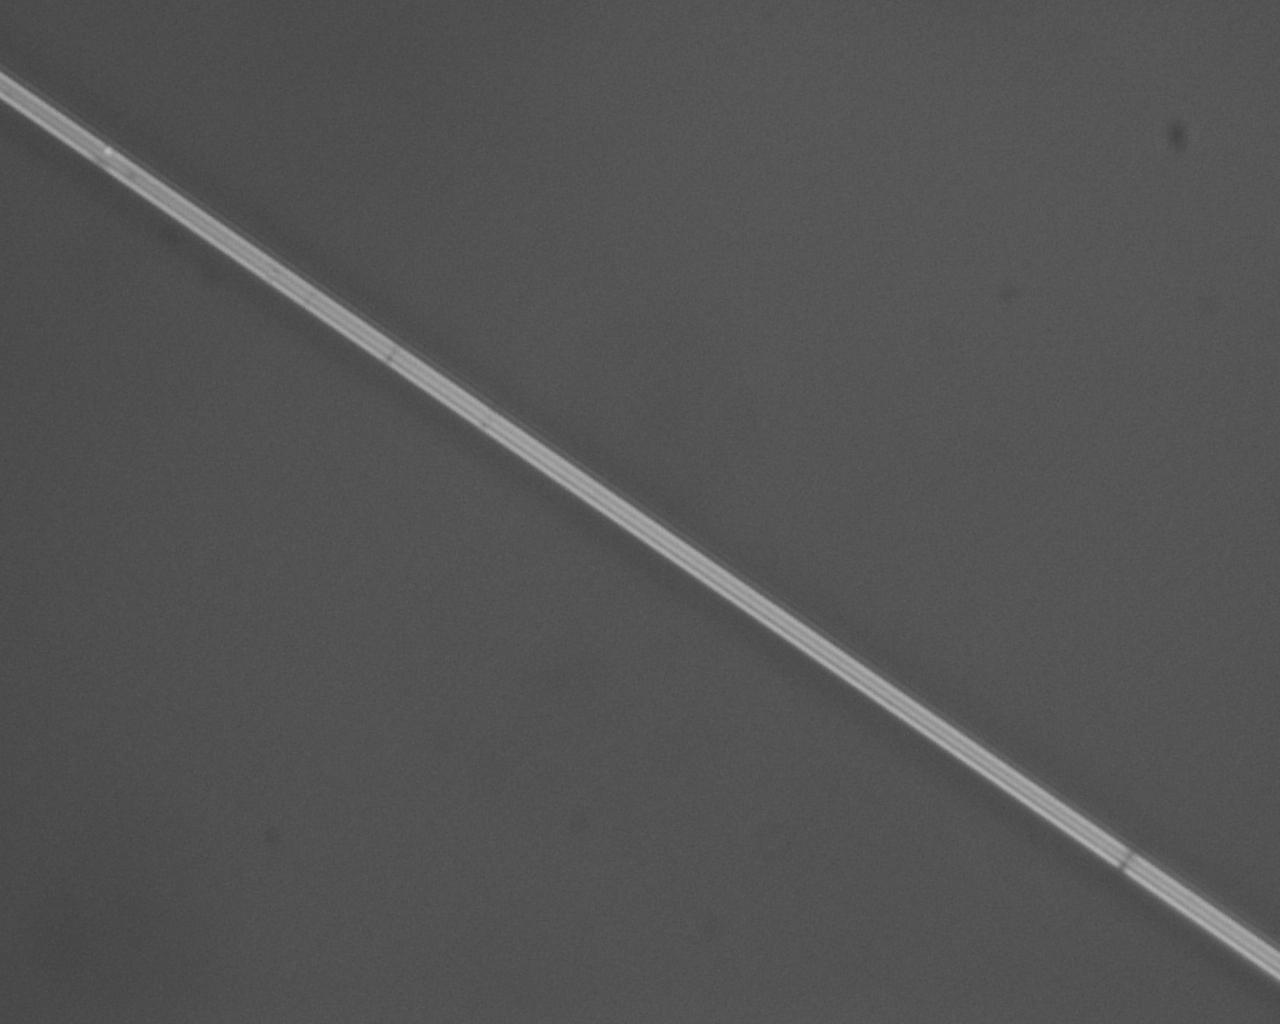fiber: (706, 522, 1184, 1024), (27, 522, 429, 1024), (426, 0, 605, 522), (1021, 0, 1151, 522)
